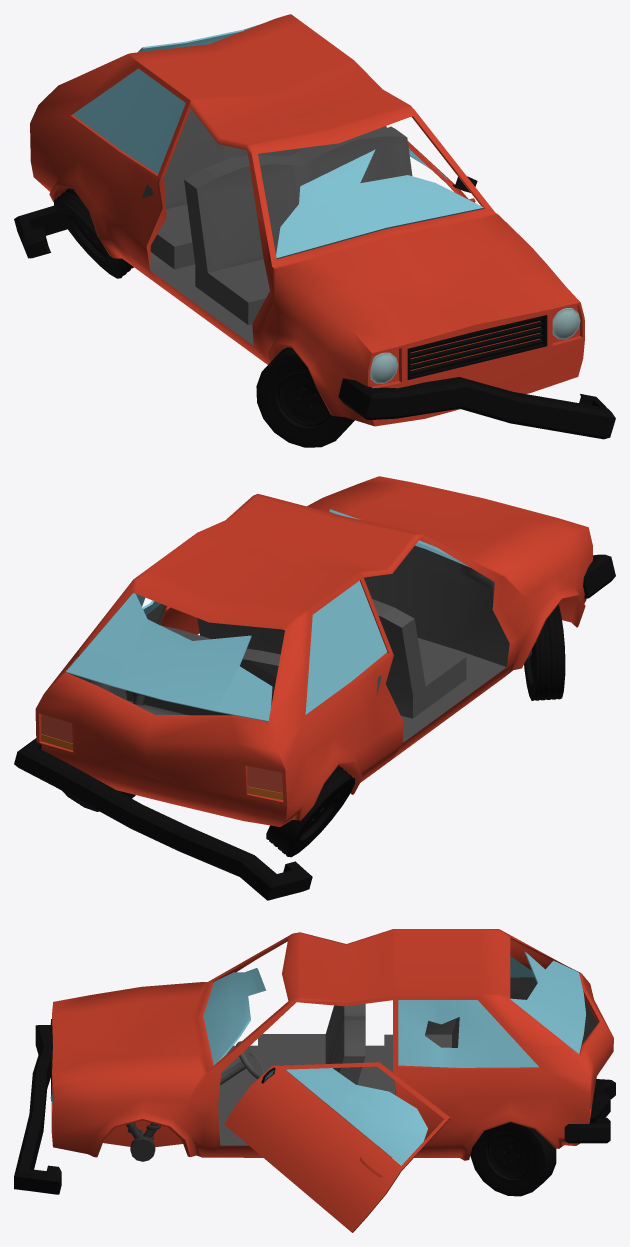
Rendered from 90sVolkWagenDamaged.fbx.
The picture shows the model from 3 angles, top to bottom: view 1: azimuth 30°, elevation 25°; view 2: azimuth 150°, elevation 25°; view 3: azimuth 270°, elevation 25°; orthographic projection. The views are drawn at different scales.
Parts seen in each view (by area): view 1: carBody, carBodyHood, frontSeat, windShield, frontBonet, backGlassL, tyreFL, backSeat, frontRadiator, tyreBL, backBonet, HlightR (+2 smaller); view 2: carBody, carBodyHood, backWindShield, backBonet, frontSeat, backGlassL, tyreBL, tyreFL, backSeat, frontBonet, backLightL, doorR (+1 smaller); view 3: carBody, carBodyHood, doorR, backGlassR, glass_2, tyreBR, frontSeat, backWindShield, frontBonet, windShield, backBonet, backSeat (+2 smaller).
Boxes of the visible parts, <box> form: carBody: <box>30,79,584,426</box>; carBodyHood: <box>73,14,464,222</box>; frontSeat: <box>184,127,412,324</box>; windShield: <box>276,149,483,259</box>; frontBonet: <box>338,377,615,439</box>; backGlassL: <box>72,68,185,173</box>; tyreFL: <box>256,347,354,447</box>; backSeat: <box>150,108,304,269</box>; frontRadiator: <box>407,315,547,379</box>; tyreBL: <box>54,188,133,278</box>; backBonet: <box>14,205,67,258</box>; HlightR: <box>552,308,580,339</box>; carBody: <box>35,476,592,826</box>; carBodyHood: <box>78,494,472,702</box>; backWindShield: <box>65,593,272,721</box>; backBonet: <box>14,738,312,900</box>; frontSeat: <box>197,599,466,718</box>; backGlassL: <box>305,580,387,714</box>; tyreBL: <box>266,765,354,857</box>; tyreFL: <box>524,604,565,700</box>; backSeat: <box>125,625,280,715</box>; frontBonet: <box>583,554,615,598</box>; backLightL: <box>247,766,282,792</box>; doorR: <box>161,606,199,634</box>; carBody: <box>51,963,613,1160</box>; carBodyHood: <box>239,929,565,1047</box>; doorR: <box>224,1062,450,1232</box>; backGlassR: <box>398,1000,538,1067</box>; glass_2: <box>286,1068,427,1165</box>; tyreBR: <box>470,1122,556,1196</box>; frontSeat: <box>258,1003,365,1120</box>; backWindShield: <box>510,951,585,1054</box>; frontBonet: <box>14,1025,61,1194</box>; windShield: <box>203,968,266,1064</box>; backBonet: <box>564,1079,615,1143</box>; backSeat: <box>384,1017,459,1094</box>.
Size of the model in its own units: 128 by 76.77 by 222.
